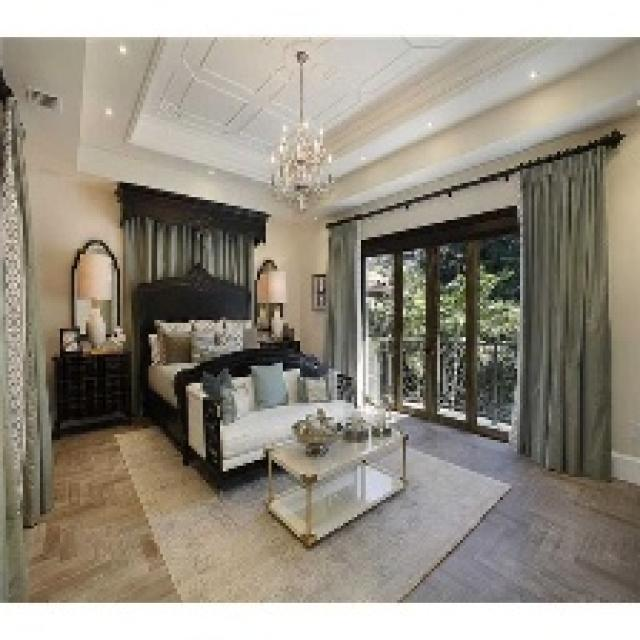Bed: (132, 263, 357, 488)
